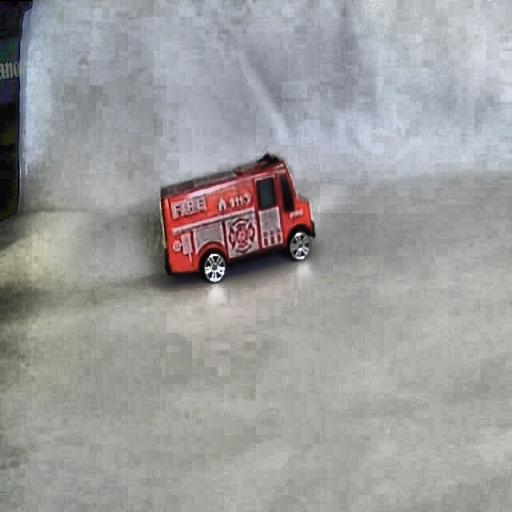fire_truck: (156, 151, 318, 285)
